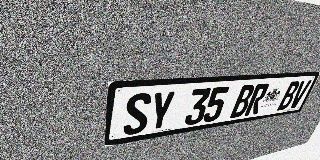3: (184, 88, 212, 126)
5: (202, 86, 230, 123)
B: (229, 84, 256, 118), (277, 81, 301, 111)
R: (244, 83, 270, 116)
S: (123, 92, 152, 136)
V: (288, 80, 312, 109)
Y: (147, 90, 176, 132)
